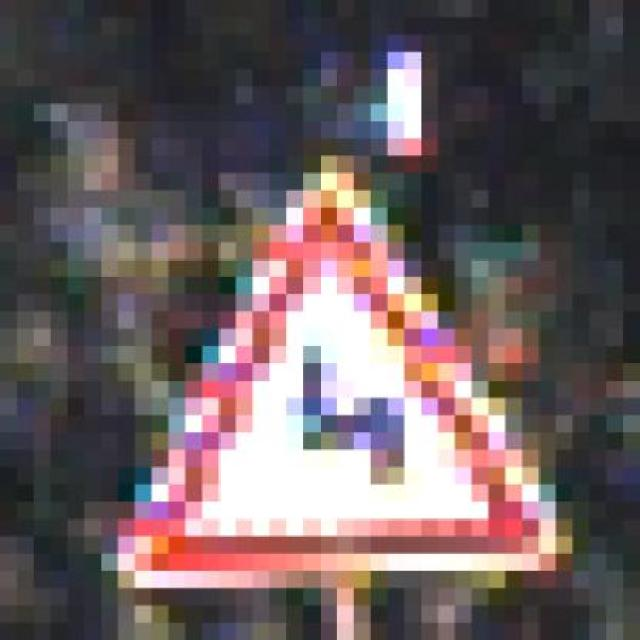Left Zig Zag Traffic: (101, 156, 573, 606)
